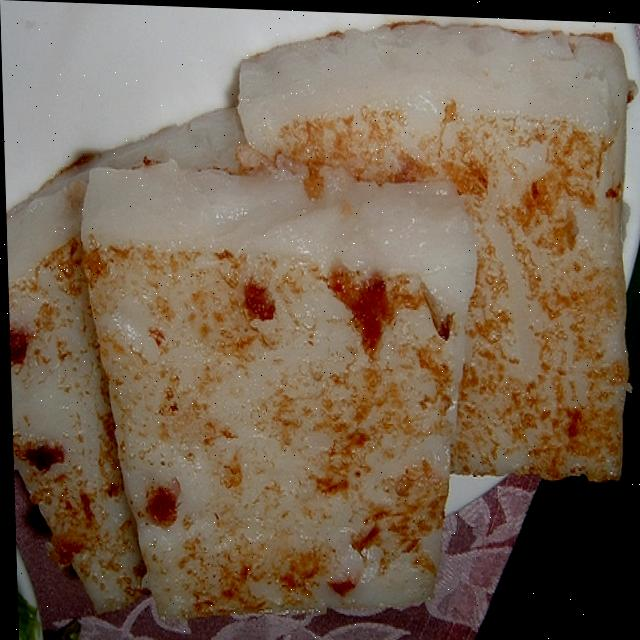蛋糕甜品: (1, 27, 640, 640)
